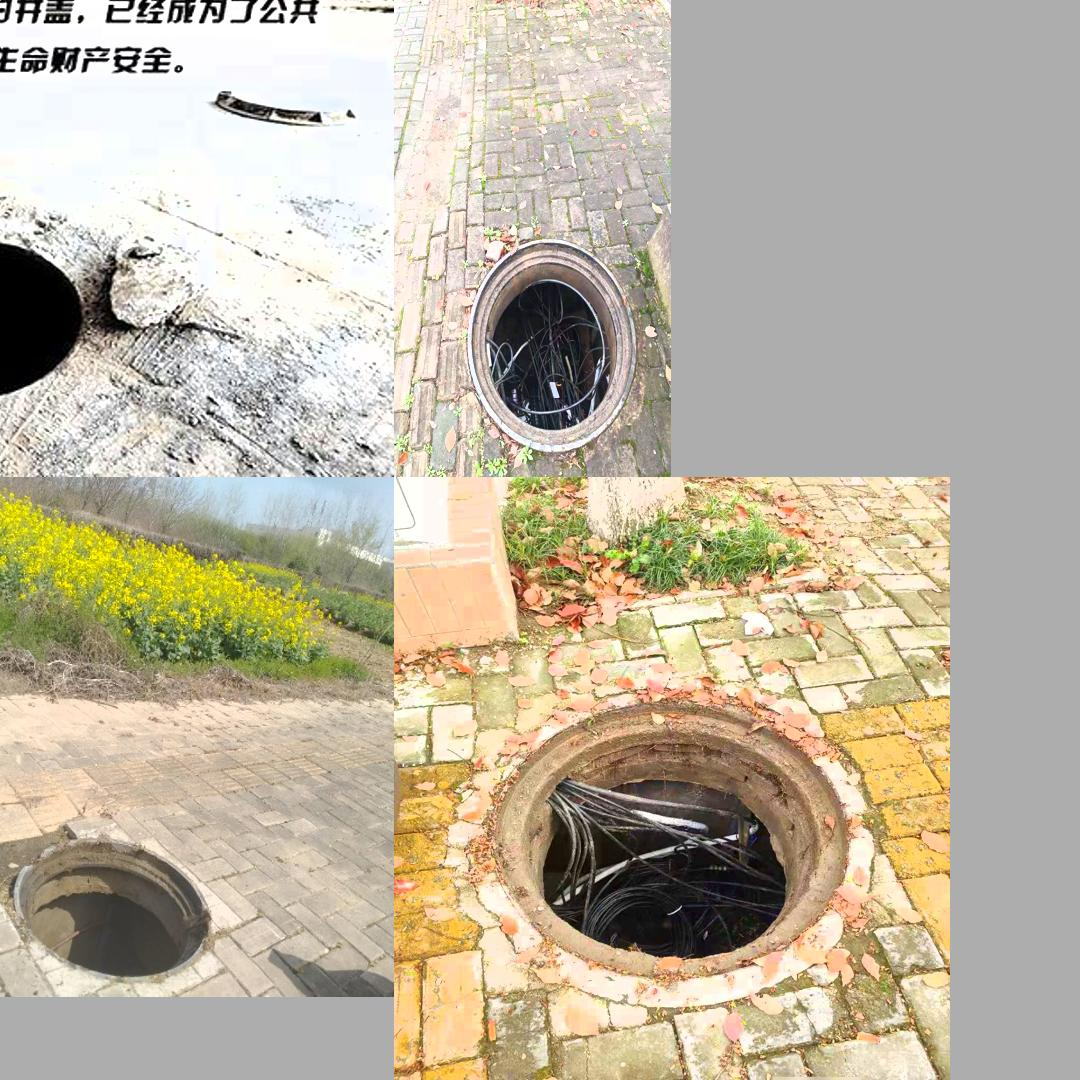lose: (491, 682, 878, 990), (467, 237, 636, 454), (8, 835, 216, 979), (0, 224, 97, 414)
